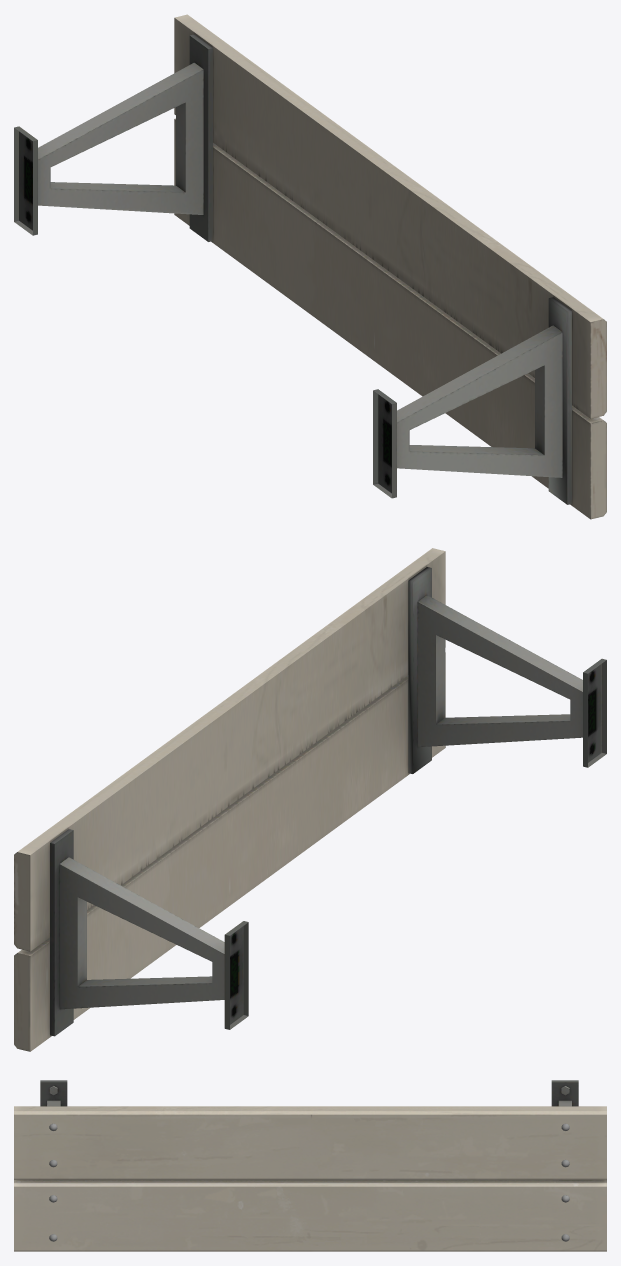
Rendered from props_spytech_bench001a.glb.
3 views of the same model, one above another, from view 1: azimuth 30°, elevation 25°; view 2: azimuth 150°, elevation 25°; view 3: azimuth 270°, elevation 25° (orthographic). The views are drawn at different scales.
Parts seen in each view (by area): view 1: models/props_spytech/bench001a; view 2: models/props_spytech/bench001a; view 3: models/props_spytech/bench001a.
Part boxes in pixels (box(x1,y1,x2,y2)): models/props_spytech/bench001a: box(14, 14, 606, 519); models/props_spytech/bench001a: box(14, 548, 606, 1051); models/props_spytech/bench001a: box(14, 1080, 606, 1251).
Bounding box in the file's own units: 24.27 × 23 × 88.
Materials: 1 (1 with a texture image).
